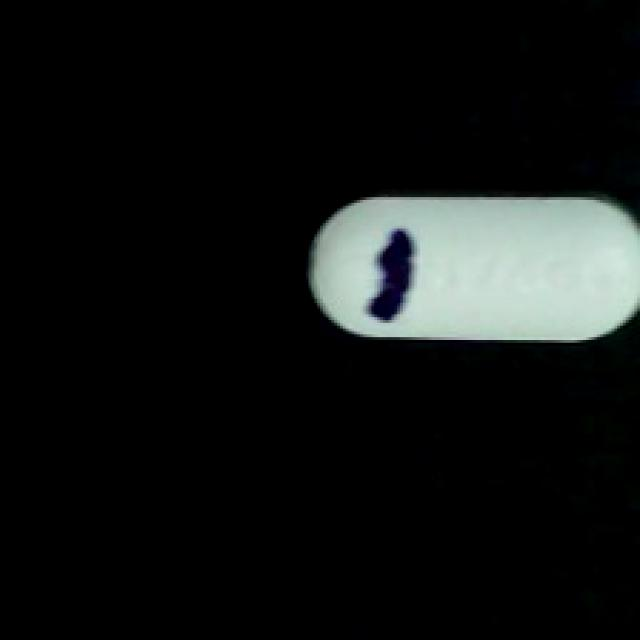defected: (291, 186, 640, 343)
